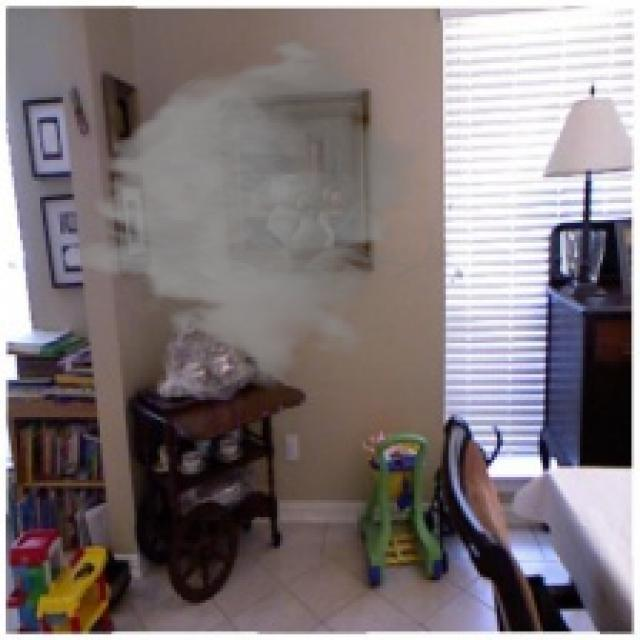Smoke: (57, 37, 454, 392)
